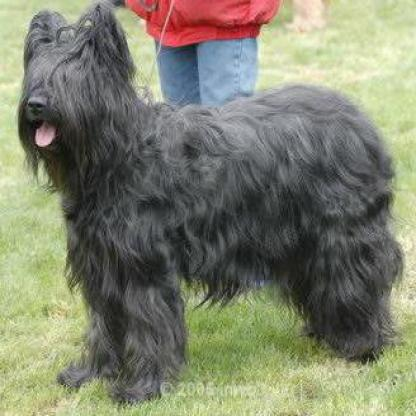briard: (15, 9, 406, 406)
